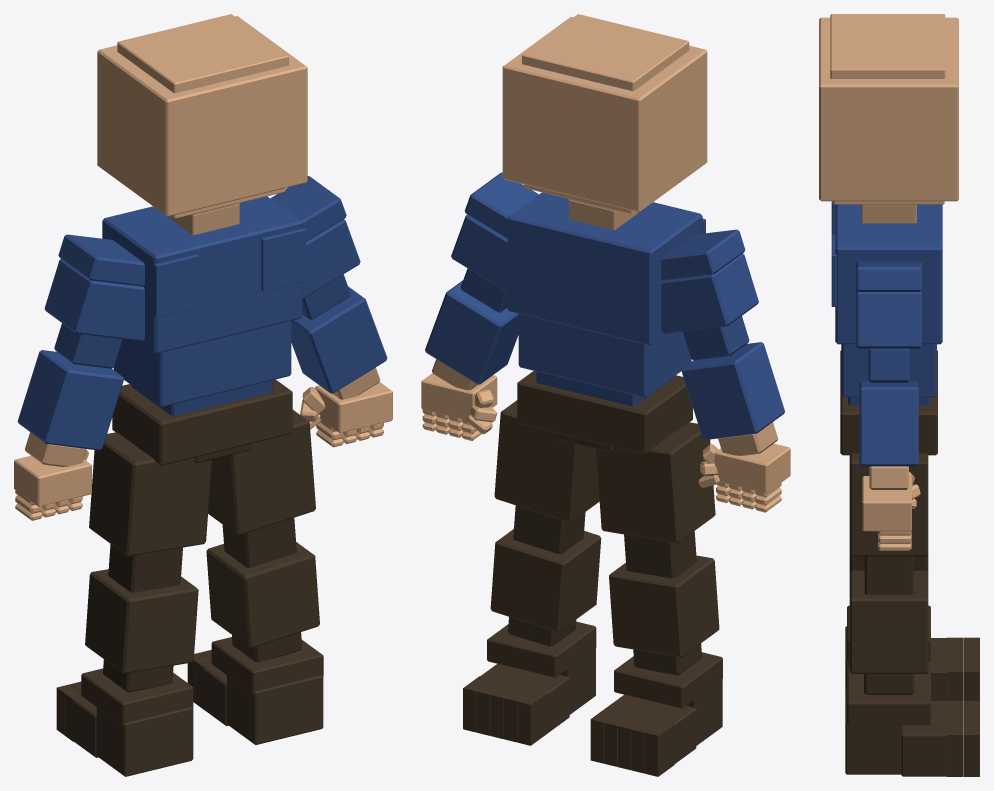
Rendered from npc_missao_bandidos.glb.
The picture shows the model from 3 angles, left to right: view 1: azimuth 30°, elevation 25°; view 2: azimuth 150°, elevation 25°; view 3: azimuth 270°, elevation 25°; orthographic projection. The views are drawn at different scales.
Visible parts, largest first — view 1: Geo_Head_Runtime, Geo_Chest_Runtime, Geo_Thigh_L_Runtime, Geo_Abdomen_Runtime, Geo_Shin_L_Runtime, Geo_Pelvis_Runtime, Geo_Shin_R_Runtime, Geo_Thigh_R_Runtime, Geo_HeadTop_Runtime, Geo_ForeArm_L_Runtime, Geo_ForeArm_R_Runtime, Geo_UpperArm_L_Runtime (+23 smaller); view 2: Geo_Head_Runtime, Geo_Chest_Runtime, Geo_Thigh_L_Runtime, Geo_Abdomen_Runtime, Geo_Shin_L_Runtime, Geo_Pelvis_Runtime, Geo_Shin_R_Runtime, Geo_Thigh_R_Runtime, Geo_HeadTop_Runtime, Geo_ForeArm_L_Runtime, Geo_ForeArm_R_Runtime, Geo_UpperArm_L_Runtime (+31 smaller); view 3: Geo_Head_Runtime, Geo_Chest_Runtime, Geo_HeadTop_Runtime, Geo_Shin_R_Runtime, Geo_ForeArm_R_Runtime, Geo_UpperArm_R_Runtime, Geo_Thigh_R_Runtime, Geo_AnkleCuff_R_Runtime, Geo_Heel_R_Runtime, Geo_Foot_R_Runtime, Geo_Abdomen_Runtime, Geo_Pelvis_Runtime (+17 smaller).
Boxes of the visible parts, <box> form: Geo_Head_Runtime: <box>97,16,307,216</box>; Geo_Chest_Runtime: <box>102,196,302,353</box>; Geo_Thigh_L_Runtime: <box>89,432,211,556</box>; Geo_Abdomen_Runtime: <box>113,321,291,407</box>; Geo_Shin_L_Runtime: <box>85,569,198,673</box>; Geo_Pelvis_Runtime: <box>112,379,292,465</box>; Geo_Shin_R_Runtime: <box>206,542,319,647</box>; Geo_Thigh_R_Runtime: <box>208,410,315,535</box>; Geo_HeadTop_Runtime: <box>117,14,288,93</box>; Geo_ForeArm_L_Runtime: <box>17,350,123,450</box>; Geo_ForeArm_R_Runtime: <box>291,286,387,393</box>; Geo_UpperArm_L_Runtime: <box>44,259,144,341</box>; Geo_Head_Runtime: <box>502,17,707,212</box>; Geo_Chest_Runtime: <box>507,192,702,345</box>; Geo_Thigh_L_Runtime: <box>596,422,715,543</box>; Geo_Abdomen_Runtime: <box>518,314,691,397</box>; Geo_Shin_L_Runtime: <box>609,555,719,657</box>; Geo_Pelvis_Runtime: <box>517,371,692,454</box>; Geo_Shin_R_Runtime: <box>490,529,601,632</box>; Geo_Thigh_R_Runtime: <box>494,400,599,522</box>; Geo_HeadTop_Runtime: <box>522,14,689,91</box>; Geo_ForeArm_L_Runtime: <box>681,342,784,439</box>; Geo_ForeArm_R_Runtime: <box>425,280,518,384</box>; Geo_UpperArm_L_Runtime: <box>661,253,758,333</box>; Geo_Head_Runtime: <box>819,17,958,201</box>; Geo_Chest_Runtime: <box>835,204,942,344</box>; Geo_HeadTop_Runtime: <box>830,14,945,78</box>; Geo_Shin_R_Runtime: <box>849,570,928,673</box>; Geo_ForeArm_R_Runtime: <box>859,381,918,466</box>; Geo_UpperArm_R_Runtime: <box>856,290,921,348</box>; Geo_Thigh_R_Runtime: <box>849,453,928,556</box>; Geo_AnkleCuff_R_Runtime: <box>847,669,930,725</box>; Geo_Heel_R_Runtime: <box>845,689,902,774</box>; Geo_Foot_R_Runtime: <box>901,701,946,776</box>; Geo_Abdomen_Runtime: <box>841,344,936,397</box>; Geo_Pelvis_Runtime: <box>840,350,937,455</box>.
Bounding box in the file's own units: 1.07 × 1.98 × 0.4192.
